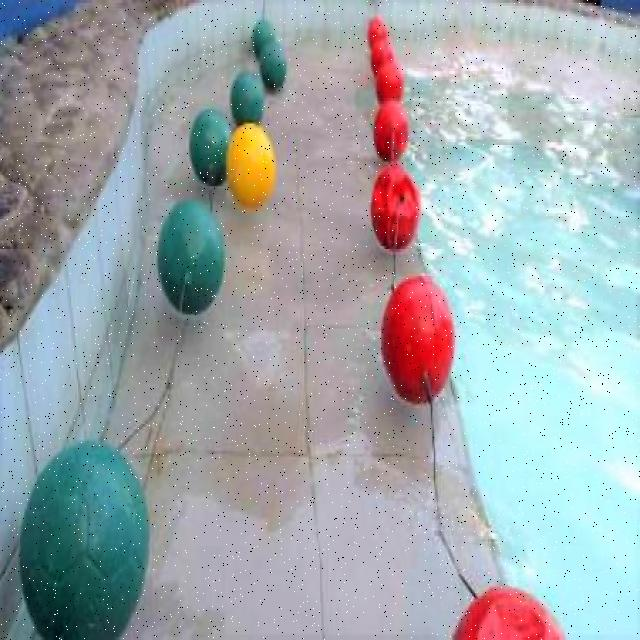buoy: (17, 434, 149, 638), (379, 274, 454, 404), (156, 198, 225, 316), (448, 584, 570, 636), (369, 163, 419, 252), (224, 122, 274, 207), (188, 110, 233, 187), (372, 100, 410, 163), (229, 70, 263, 126), (258, 41, 287, 90), (375, 58, 403, 102), (369, 40, 395, 75), (250, 18, 276, 53), (366, 15, 388, 50)
